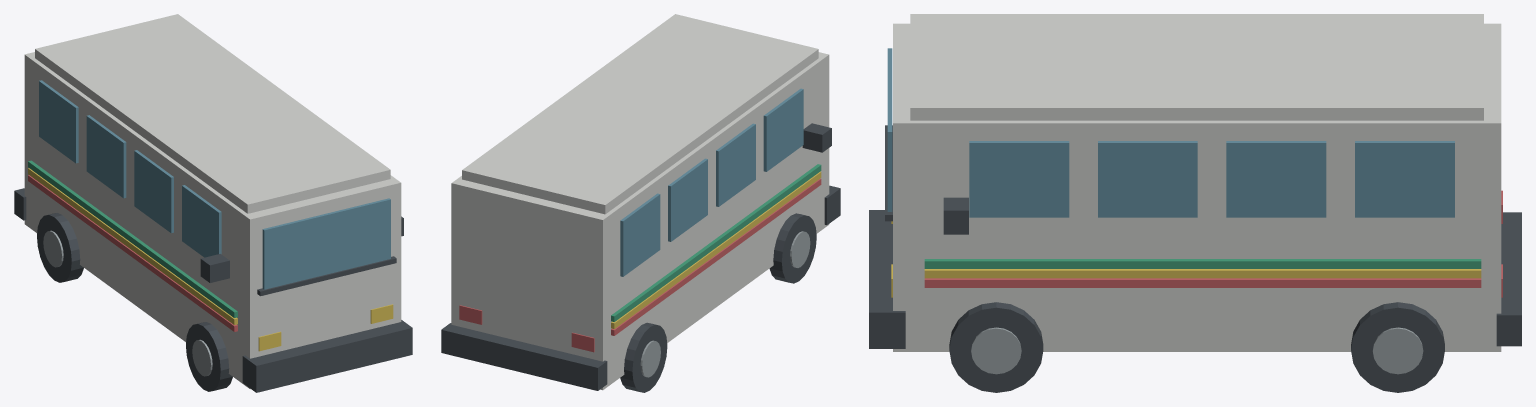
Rendered from sa_minibus_taxi.glb.
3 renders of one model, left to right at view 1: azimuth 30°, elevation 25°; view 2: azimuth 150°, elevation 25°; view 3: azimuth 270°, elevation 25°, orthographic. The views are drawn at different scales.
Visible parts, largest first — view 1: main_white_body, roof_cap, windshield, front_bumper, side_window_-1_2, side_window_-1_1, side_window_-1_3, side_window_-1_0, sa_stripe_-1_1.24, wheel_-1_-1.75, wheel_-1_1.75, sa_stripe_-1_1.15 (+8 smaller); view 2: main_white_body, roof_cap, rear_bumper, side_window_-1_3, side_window_-1_0, side_window_-1_1, side_window_-1_2, sa_stripe_-1_1.24, wheel_-1_-1.75, wheel_-1_1.75, sa_stripe_-1_1.06, sa_stripe_-1_1.15 (+6 smaller); view 3: main_white_body, roof_cap, side_window_1_0, side_window_1_2, side_window_1_1, side_window_1_3, sa_stripe_1_1.24, sa_stripe_1_1.06, sa_stripe_1_1.15, wheel_1_1.75, wheel_1_-1.75, front_bumper (+5 smaller).
Boxes of the visible parts, x1,y1,x2,y2 form: main_white_body: [24, 52, 401, 389]; roof_cap: [35, 14, 390, 213]; windshield: [262, 198, 390, 289]; front_bumper: [242, 320, 412, 392]; side_window_-1_2: [86, 115, 126, 198]; side_window_-1_1: [134, 150, 173, 233]; side_window_-1_3: [39, 80, 78, 163]; side_window_-1_0: [182, 185, 221, 257]; sa_stripe_-1_1.24: [28, 160, 237, 317]; wheel_-1_-1.75: [37, 213, 83, 282]; wheel_-1_1.75: [186, 322, 232, 391]; sa_stripe_-1_1.15: [28, 168, 237, 324]; main_white_body: [451, 52, 829, 390]; roof_cap: [462, 14, 818, 214]; rear_bumper: [441, 323, 607, 390]; side_window_-1_3: [620, 193, 660, 276]; side_window_-1_0: [763, 88, 803, 171]; side_window_-1_1: [716, 123, 755, 206]; side_window_-1_2: [668, 158, 707, 241]; sa_stripe_-1_1.24: [611, 164, 821, 321]; wheel_-1_-1.75: [620, 322, 667, 392]; wheel_-1_1.75: [769, 213, 816, 283]; sa_stripe_-1_1.06: [611, 178, 821, 335]; sa_stripe_-1_1.15: [611, 171, 821, 328]; main_white_body: [893, 23, 1501, 351]; roof_cap: [910, 14, 1483, 120]; side_window_1_0: [969, 141, 1069, 217]; side_window_1_2: [1226, 141, 1326, 217]; side_window_1_1: [1098, 141, 1197, 217]; side_window_1_3: [1355, 141, 1454, 217]; sa_stripe_1_1.24: [924, 259, 1481, 268]; sa_stripe_1_1.06: [924, 278, 1481, 287]; sa_stripe_1_1.15: [924, 269, 1481, 278]; wheel_1_1.75: [949, 302, 1043, 392]; wheel_1_-1.75: [1351, 302, 1444, 392]; front_bumper: [869, 210, 905, 348].
Size of the model in its own units: 2.63 by 2.66 by 5.69.
